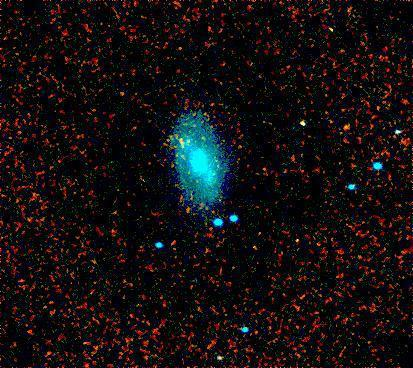star: (336, 110, 366, 140)
